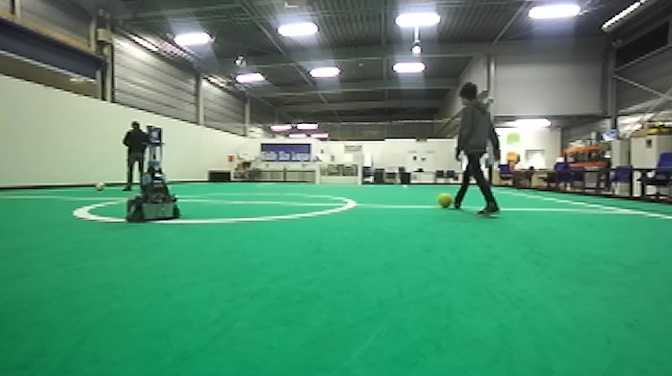ball: (436, 191, 452, 209), (92, 180, 106, 191)
goal: (315, 162, 361, 187)
goalpost: (314, 162, 320, 186), (358, 161, 361, 186)
human: (448, 79, 504, 219), (121, 119, 150, 195)
robot: (123, 140, 181, 226)
